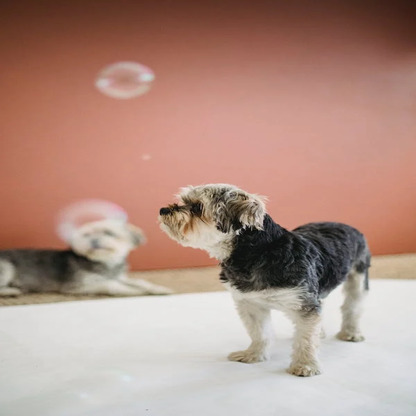yorkshire: (157, 182, 373, 377)
